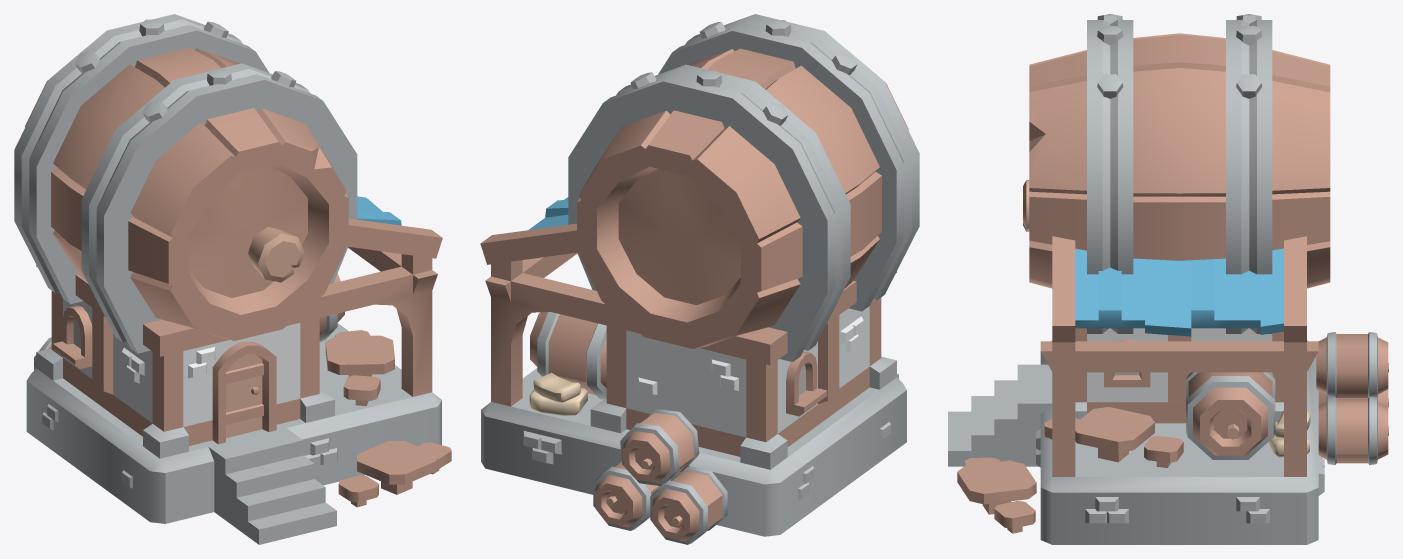
Rendered from tavern_part.glb.
3 renders of one model, left to right at view 1: azimuth 30°, elevation 25°; view 2: azimuth 150°, elevation 25°; view 3: azimuth 270°, elevation 25°, orthographic. The views are drawn at different scales.
Parts seen in each view (by area): view 1: X_building_tavern_blue; view 2: X_building_tavern_blue; view 3: X_building_tavern_blue.
Boxes of the visible parts, x1,y1,x2,y2 form: X_building_tavern_blue: (14,14,451,544); X_building_tavern_blue: (480,14,919,544); X_building_tavern_blue: (948,14,1388,544).
Bounding box in the file's own units: 1.17 × 1.4 × 1.33.
